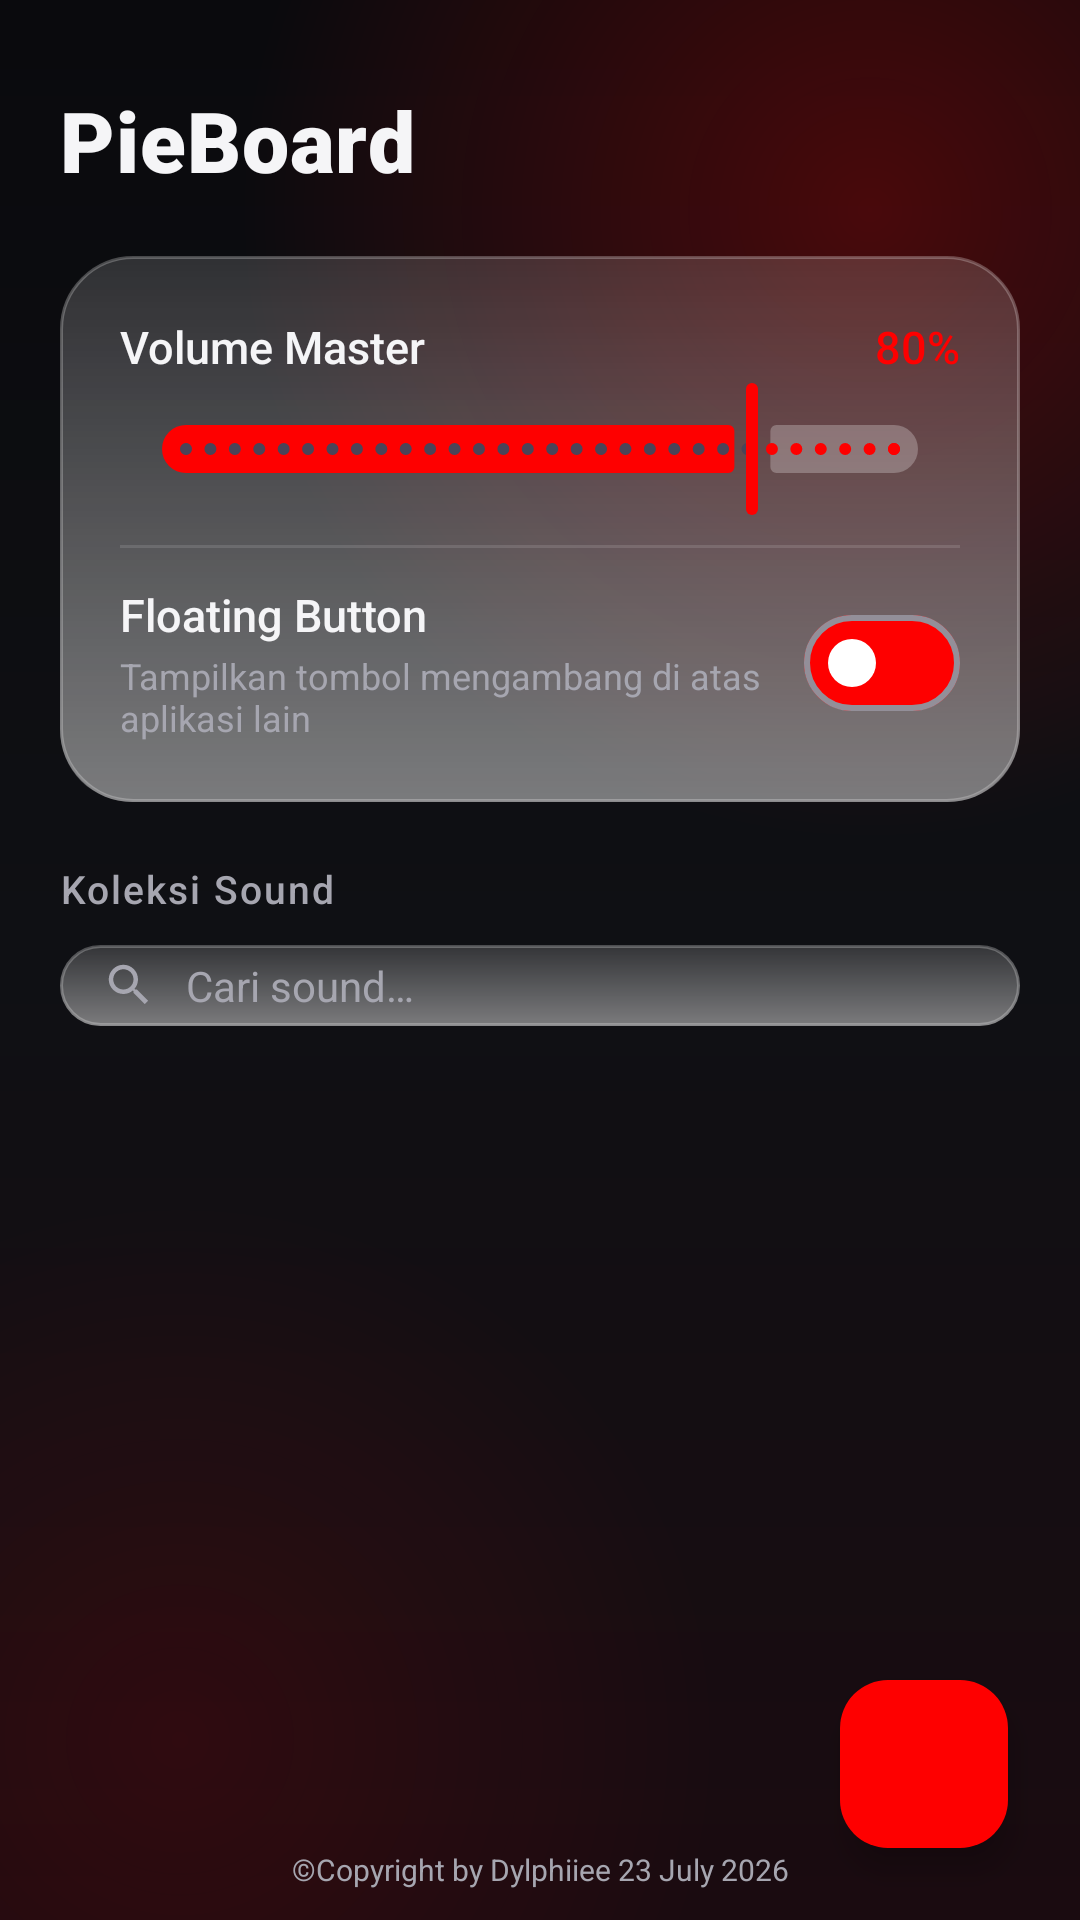

Screen size 1080px x 1920px. Icon name, then its center in pixels as point (x, y):
search: point (129, 985)
